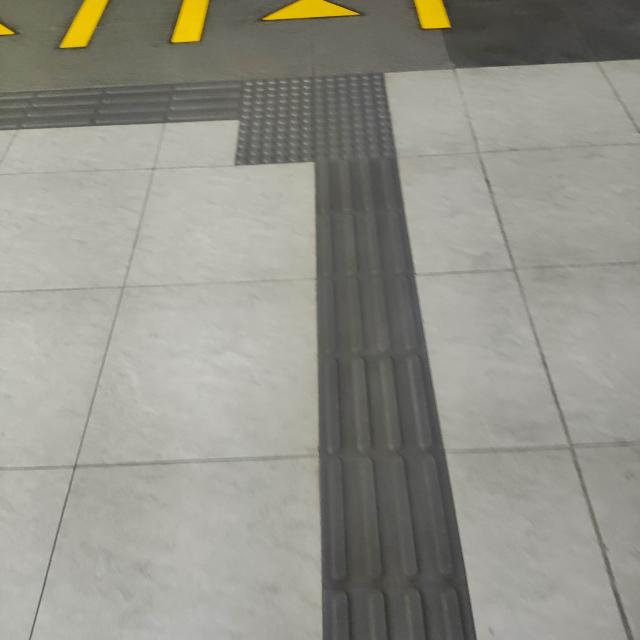kiri: (98, 43, 441, 188)
